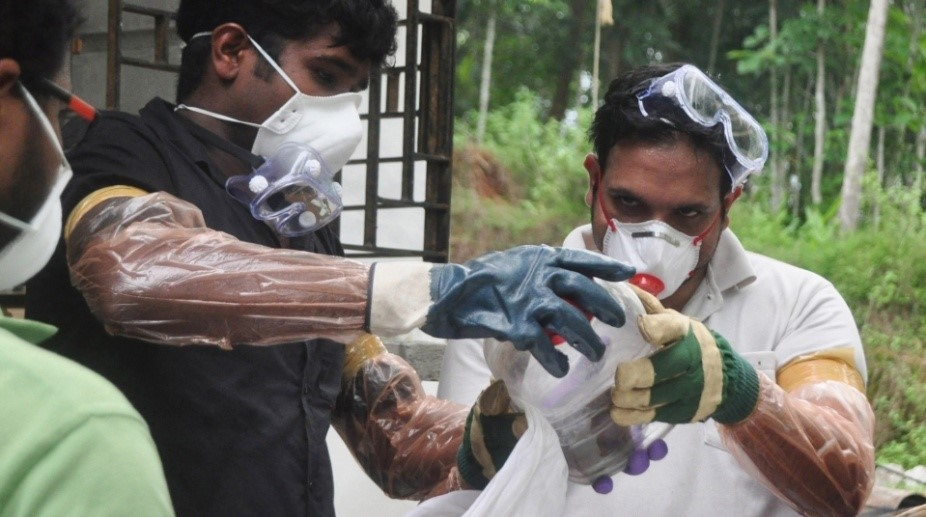face_with_mask: (196, 12, 389, 247), (573, 99, 754, 322), (0, 0, 118, 316)
